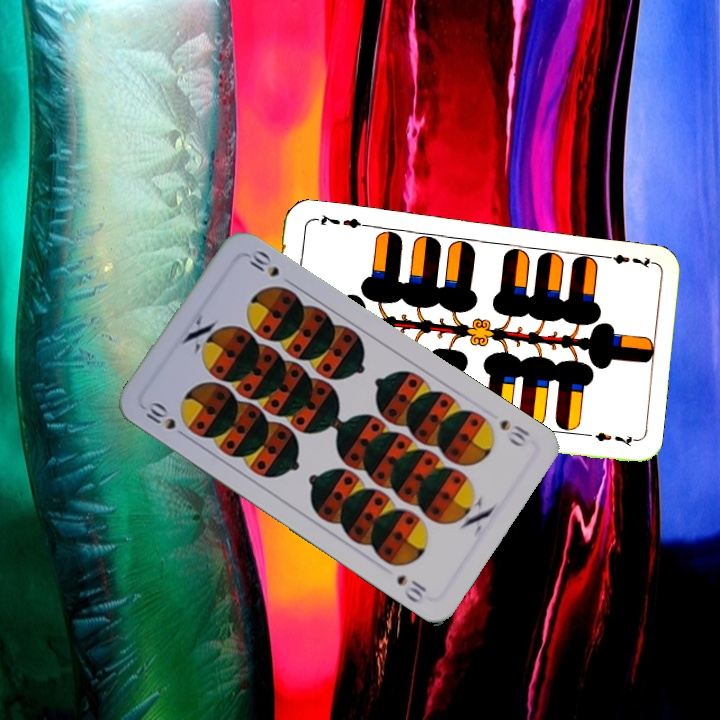E7: (596, 250, 655, 270)
S10: (141, 397, 179, 433), (496, 415, 533, 450)
